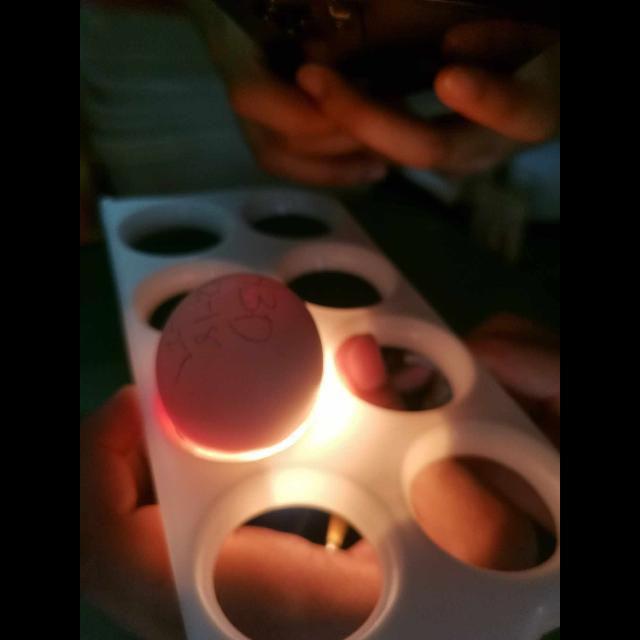Fertile: (158, 268, 308, 442)
